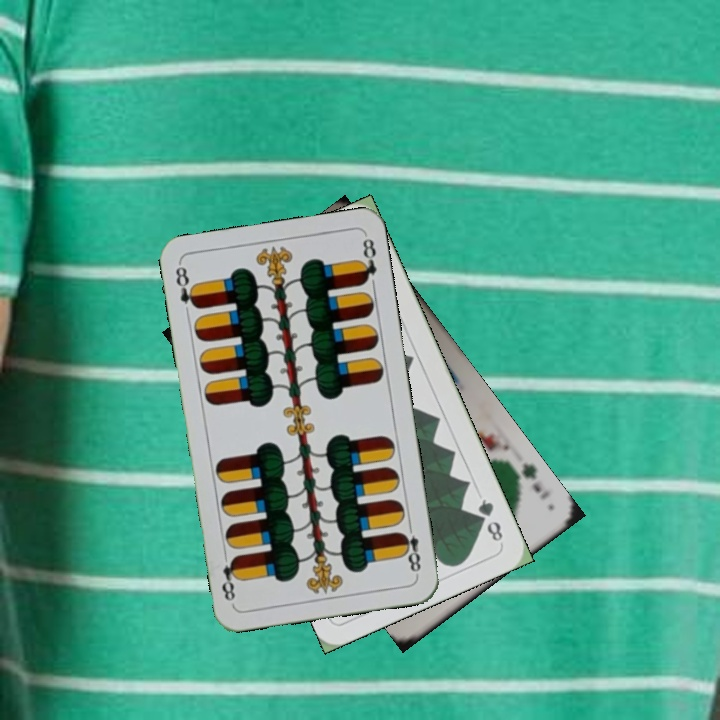E8: (396, 519, 424, 578), (171, 261, 201, 311)
G8: (473, 494, 506, 544)
GK: (509, 459, 553, 502)
